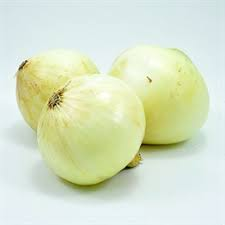Onion: (34, 77, 147, 189)
